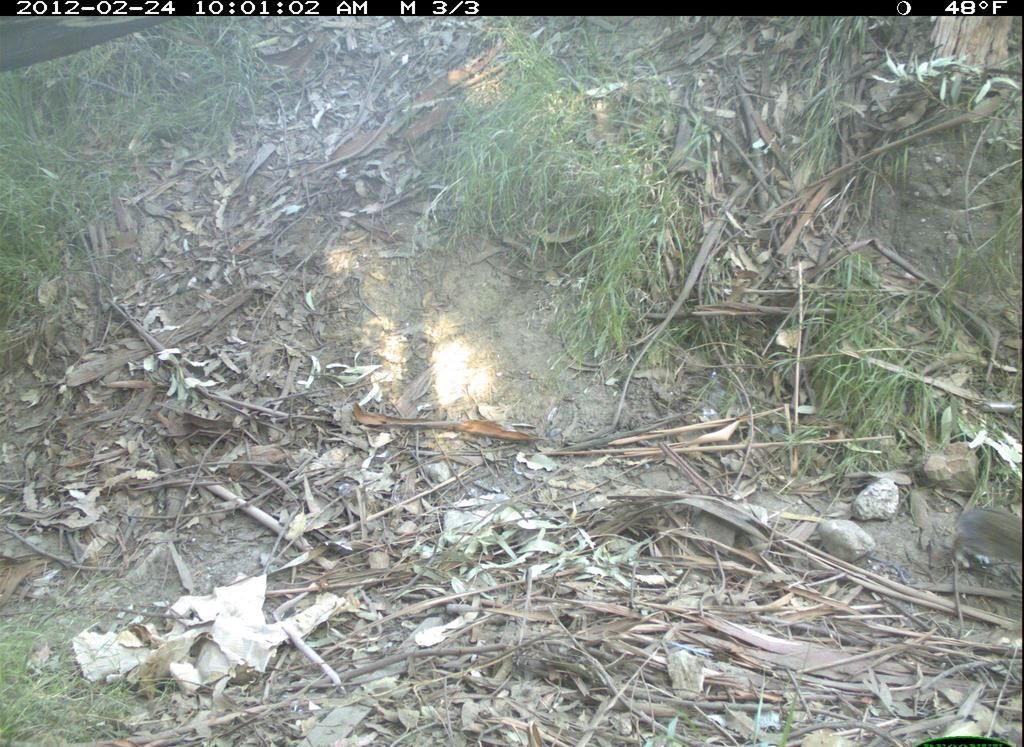rabbit: (940, 482, 1023, 593)
